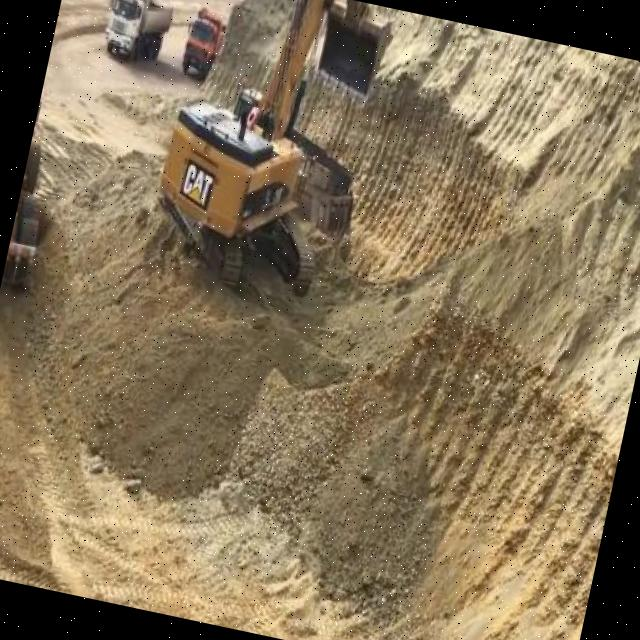Dump Truck: (98, 0, 177, 66), (176, 1, 230, 85)
Excavator: (136, 0, 398, 312)
